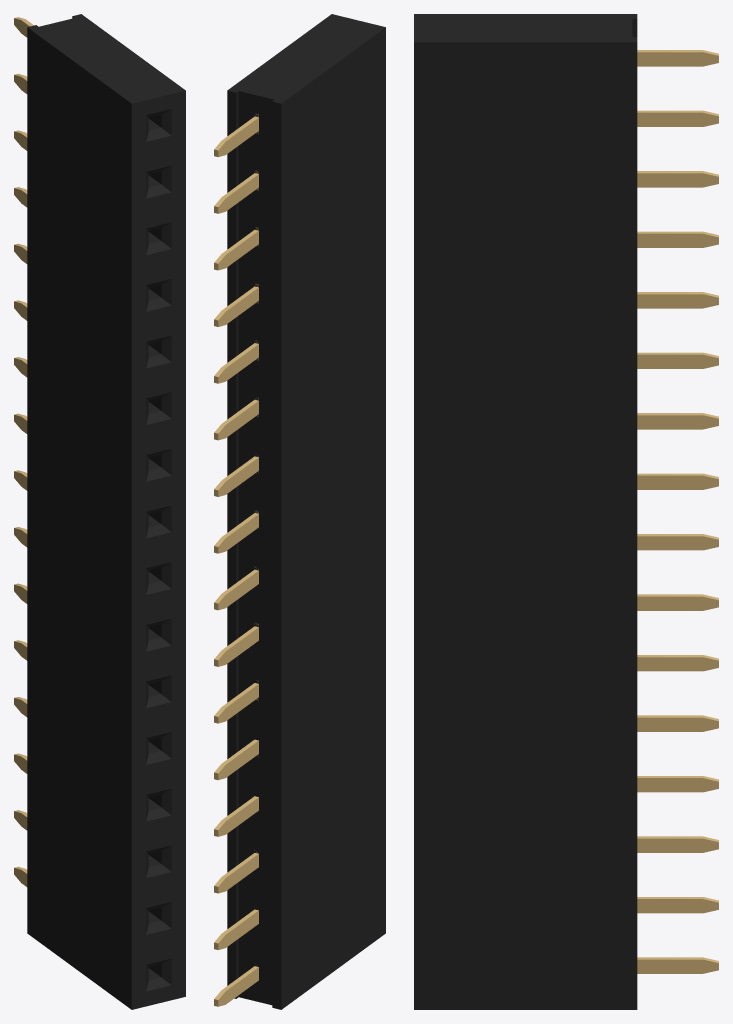
File: socket-1x16.glb
The picture shows the model from 3 angles, left to right: view 1: azimuth 30°, elevation 25°; view 2: azimuth 150°, elevation 25°; view 3: azimuth 270°, elevation 25°; orthographic projection. The views are drawn at different scales.
Parts seen in each view (by area): view 1: IC-BODY-EPOXY-04, PIN-02; view 2: IC-BODY-EPOXY-04, PIN-02 (×16); view 3: IC-BODY-EPOXY-04, PIN-02 (×14).
Part boxes in pixels (x1=…): IC-BODY-EPOXY-04: x1=27, y1=14, x2=185, y2=1009; PIN-02: x1=14, y1=17, x2=33, y2=873; IC-BODY-EPOXY-04: x1=227, y1=14, x2=385, y2=1009; PIN-02 (×16): x1=214, y1=114, x2=258, y2=1006; IC-BODY-EPOXY-04: x1=414, y1=14, x2=637, y2=1009; PIN-02 (×14): x1=637, y1=50, x2=718, y2=973.
Size of the model in its own units: 2.54 by 40.64 by 11.6.
